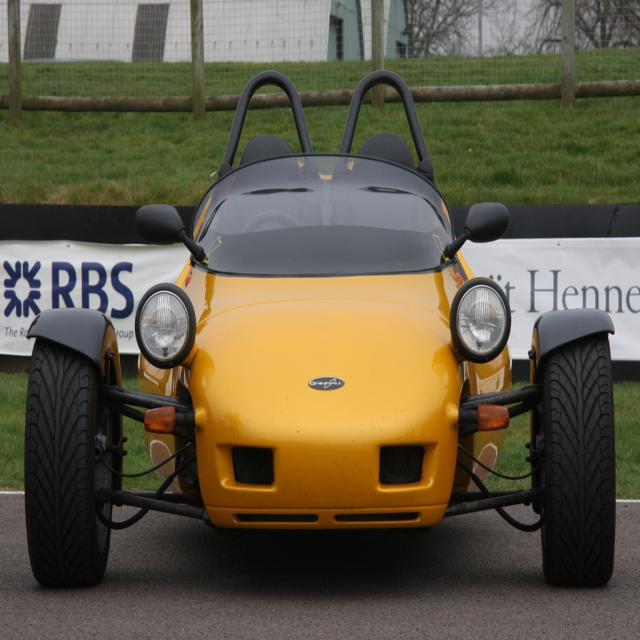car: (22, 67, 614, 588)
